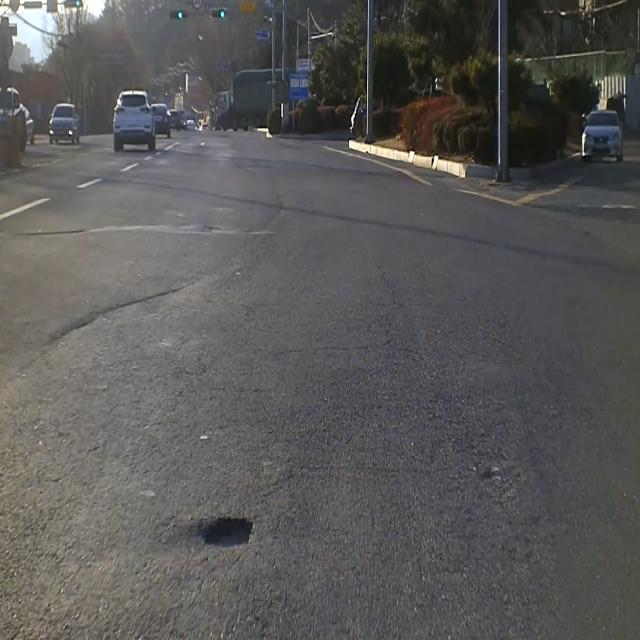Pothole: (196, 514, 260, 556)
